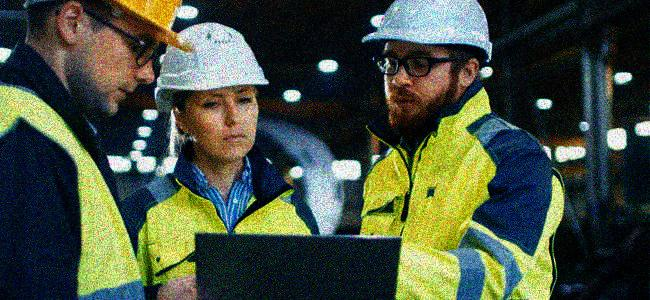helmet: (21, 1, 189, 115), (360, 1, 493, 128), (155, 22, 270, 160)
